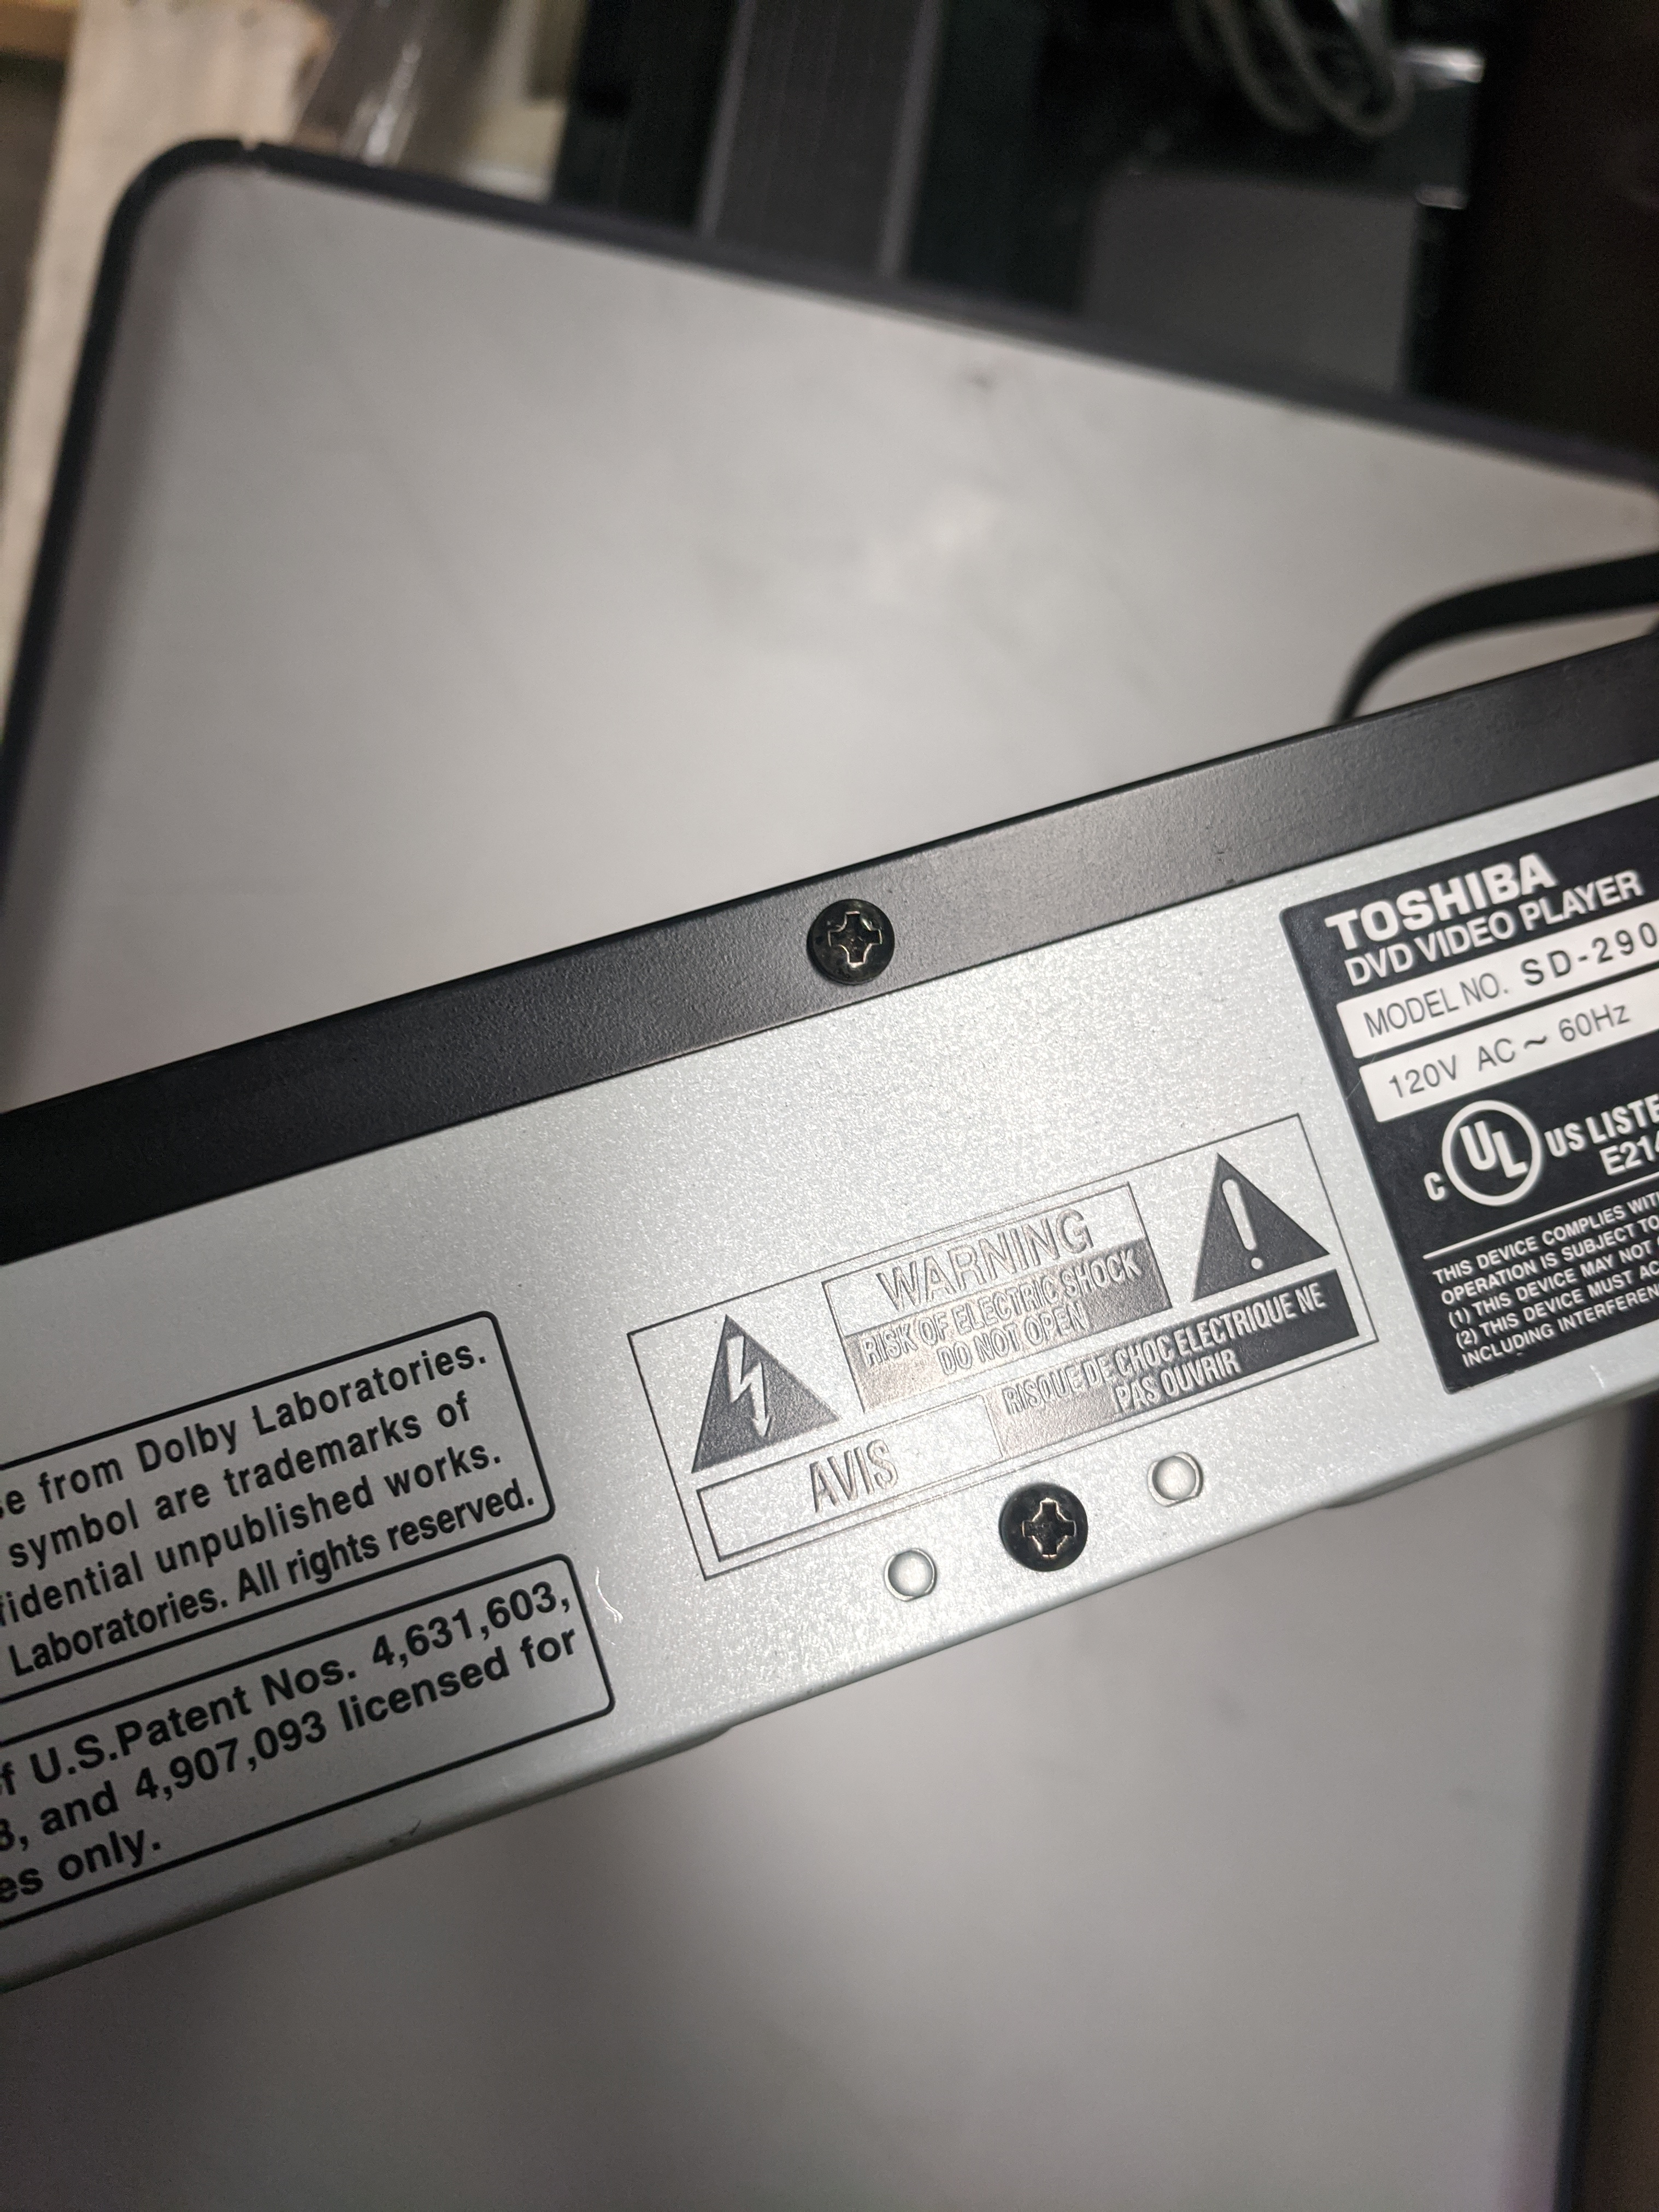cross_recessed_screw: (789, 888, 901, 993), (990, 1474, 1093, 1578)
